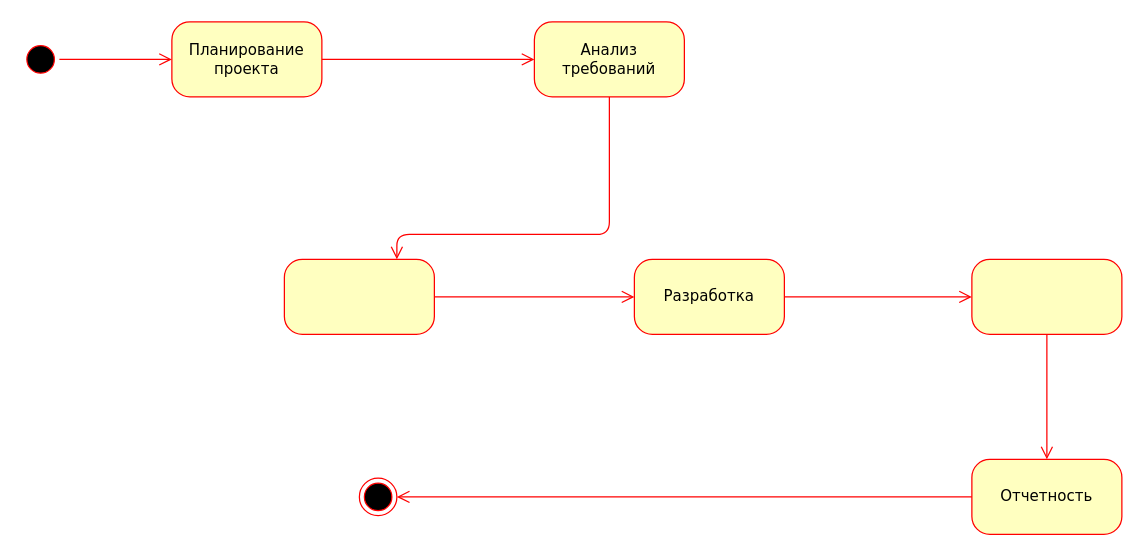
This 1144x556 diagram has some shape labels left out. The centre of each missing label's shape, as x and y in pixels:
Проектирование базы данных: the point at 358,296
Тестирование: the point at 1046,296
